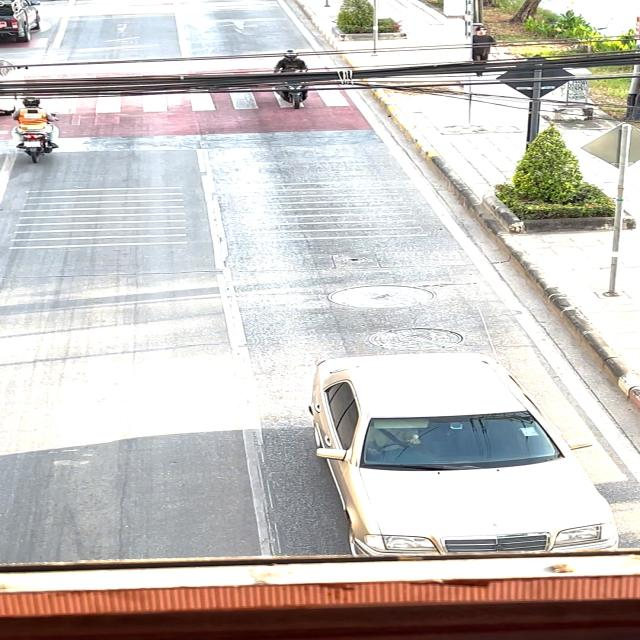car: (288, 337, 618, 557)
